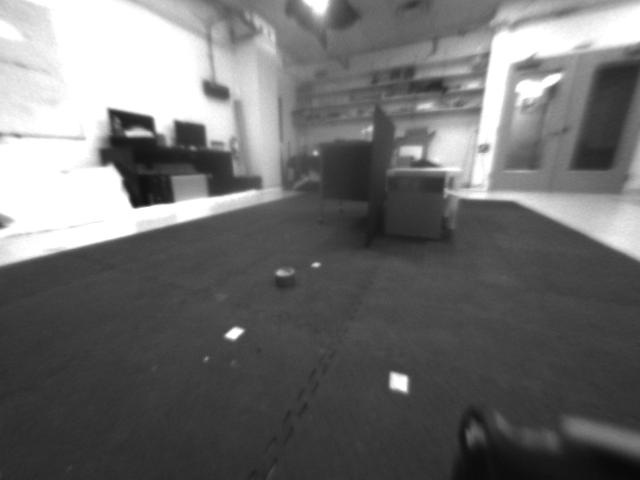dogtoy: (261, 261, 306, 292)
